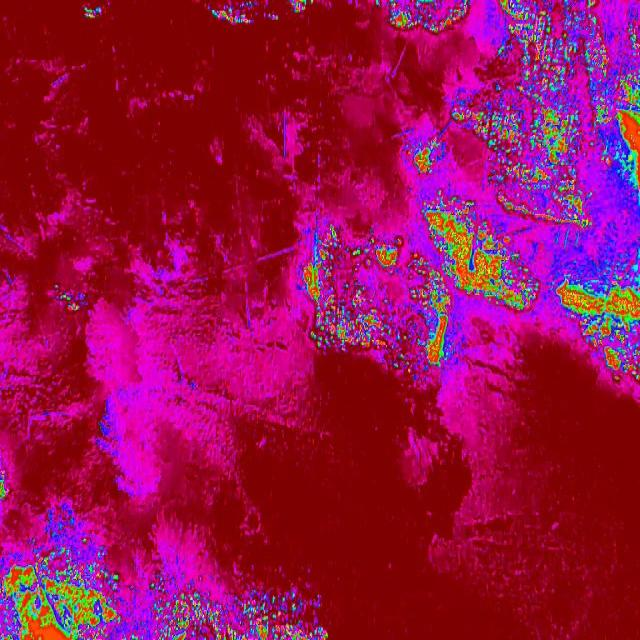fire: (452, 84, 640, 230), (304, 230, 454, 380), (0, 507, 127, 640), (420, 192, 544, 312), (143, 572, 335, 640), (497, 0, 640, 84), (556, 260, 640, 390), (383, 0, 475, 44), (209, 0, 311, 25), (406, 135, 449, 173), (54, 286, 88, 313)
